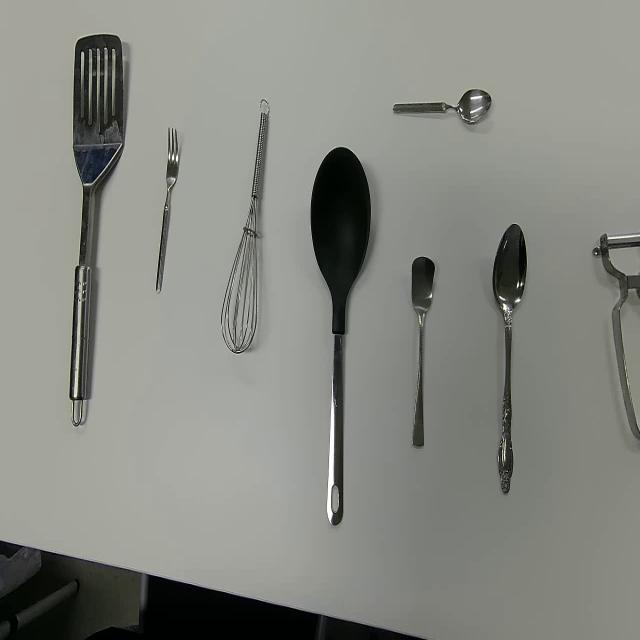Desert-Spoon: (492, 222, 528, 497)
Dinner-Fork: (156, 126, 180, 294)
Peeler: (591, 231, 640, 442)
Serving-Spoon: (309, 144, 372, 528), (68, 32, 124, 430)
Tea-Spoon: (411, 255, 436, 449), (392, 86, 492, 124)
Whisk: (220, 96, 271, 354)
